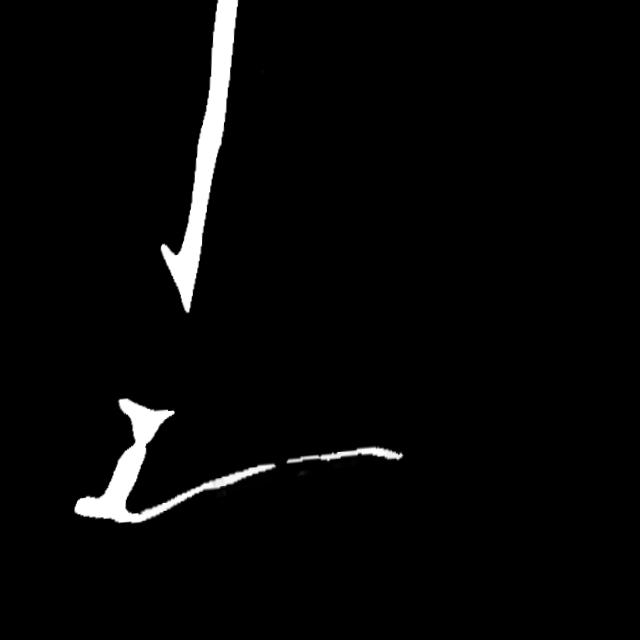sup: (277, 457, 296, 476)
